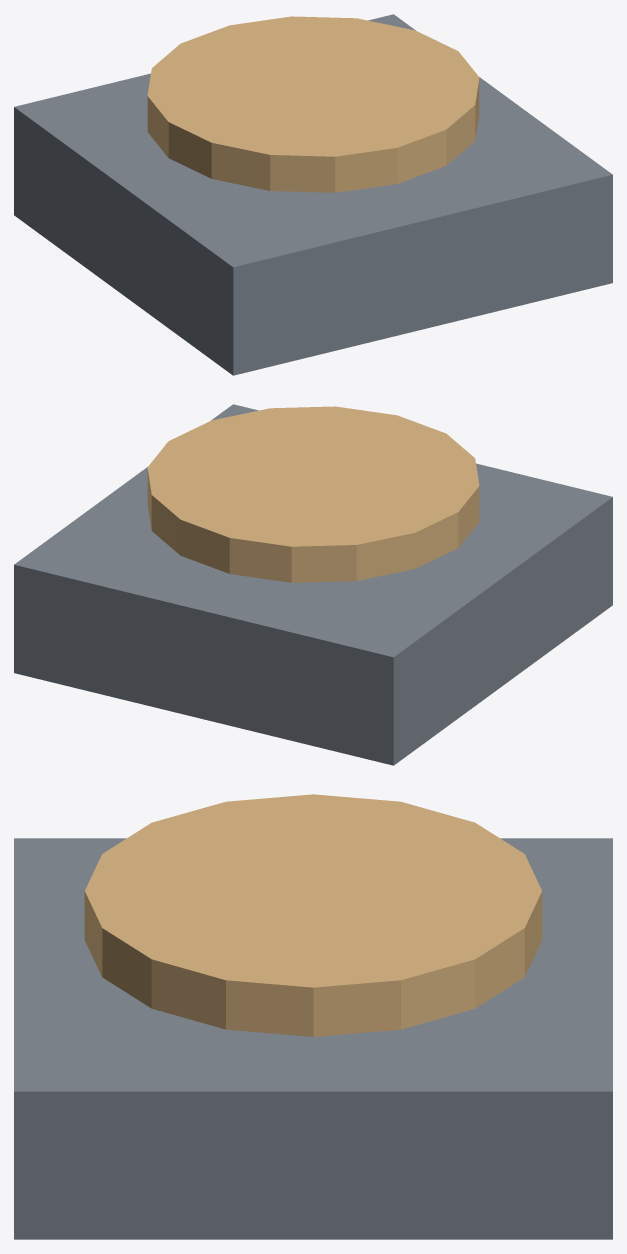
3 views of the same model, one above another, from view 1: azimuth 30°, elevation 25°; view 2: azimuth 150°, elevation 25°; view 3: azimuth 270°, elevation 25° (orthographic). The views are drawn at different scales.
Parts seen in each view (by area): view 1: inductor__PSMAT__inductor, coil__PSMAT__coil; view 2: inductor__PSMAT__inductor, coil__PSMAT__coil; view 3: inductor__PSMAT__inductor, coil__PSMAT__coil.
Part boxes in pixels (bbox=[...]): inductor__PSMAT__inductor: bbox=[14, 14, 612, 375]; coil__PSMAT__coil: bbox=[147, 16, 479, 192]; inductor__PSMAT__inductor: bbox=[14, 404, 612, 765]; coil__PSMAT__coil: bbox=[147, 406, 479, 582]; inductor__PSMAT__inductor: bbox=[14, 838, 612, 1239]; coil__PSMAT__coil: bbox=[84, 794, 542, 1036].
Size of the model in its own units: 0.011 by 0.00458 by 0.011.
